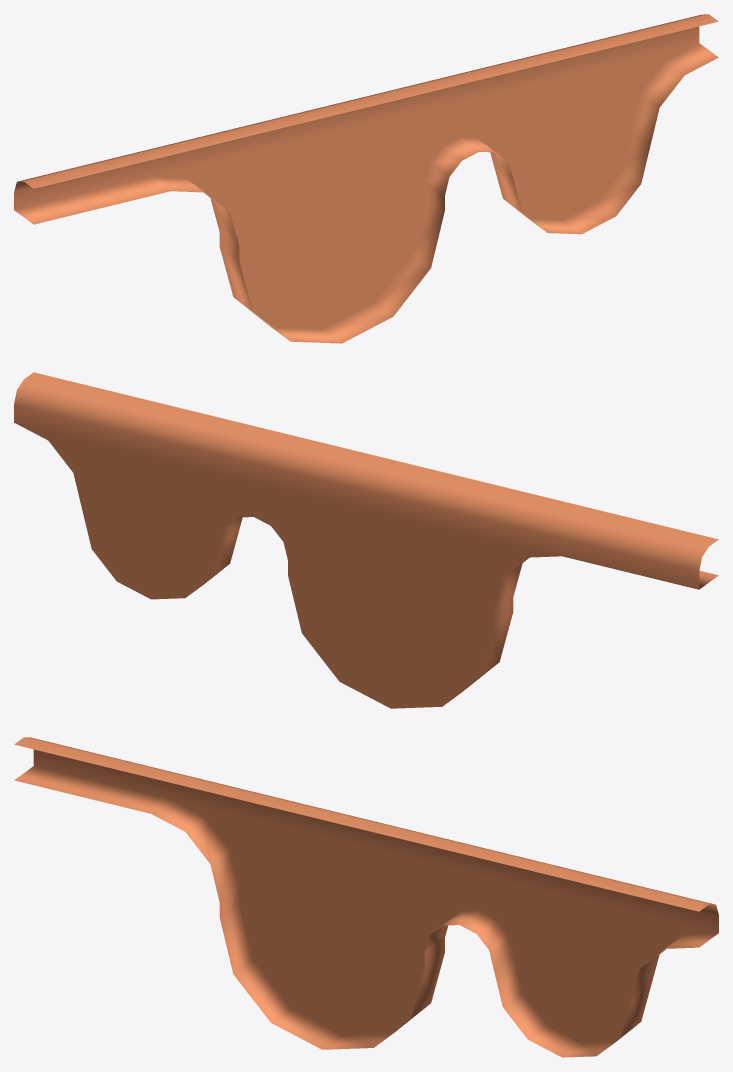
File: SM_drop_1.fbx
3 renders of one model, top to bottom at view 1: azimuth 30°, elevation 25°; view 2: azimuth 150°, elevation 25°; view 3: azimuth 330°, elevation 25°, orthographic.
Visible parts, largest first — view 1: SM_drop_1; view 2: SM_drop_1; view 3: SM_drop_1.
Boxes of the visible parts, bbox=[...] form: SM_drop_1: bbox=[14, 14, 718, 343]; SM_drop_1: bbox=[14, 372, 718, 708]; SM_drop_1: bbox=[14, 737, 718, 1057].
Size of the model in its own units: 500 by 160 by 25.01.
